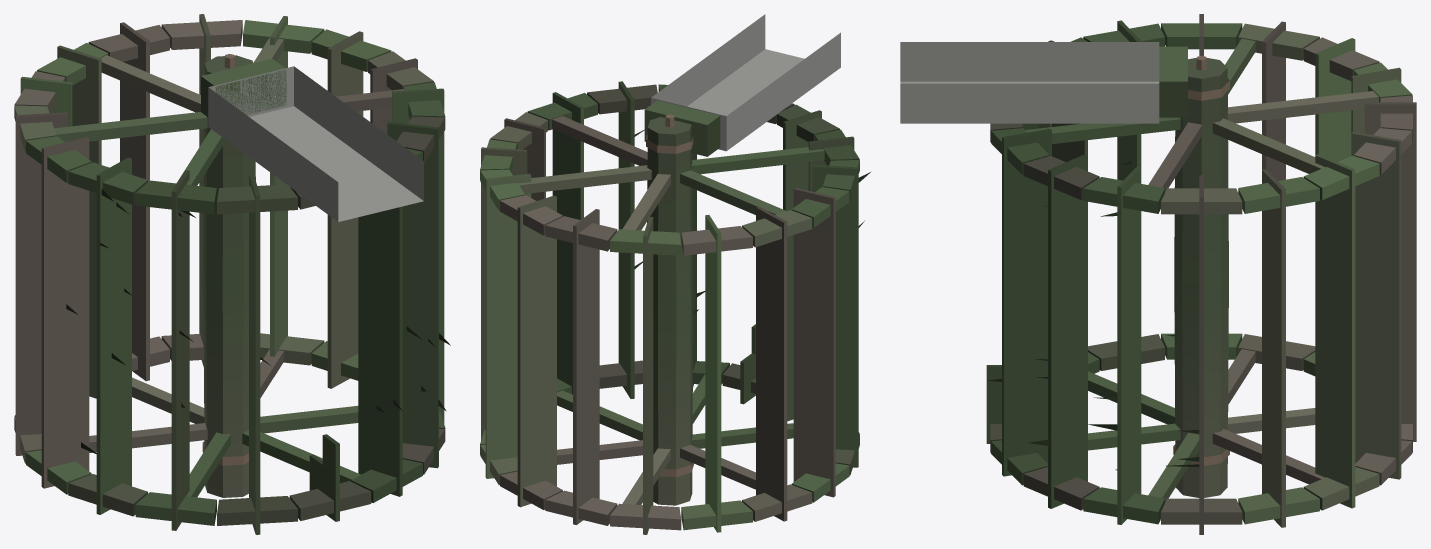
File: prop_mill_wheel.glb
3 views of the same model, side by side, from view 1: azimuth 30°, elevation 25°; view 2: azimuth 150°, elevation 25°; view 3: azimuth 270°, elevation 25° (orthographic). The views are drawn at different scales.
Visible parts, largest first — view 1: MillWheel; view 2: MillWheel; view 3: MillWheel.
Part boxes in pixels (x1=…): MillWheel: x1=14, y1=14, x2=450, y2=534; MillWheel: x1=480, y1=14, x2=871, y2=534; MillWheel: x1=900, y1=14, x2=1416, y2=534.
Size of the model in its own units: 3.14 by 3.46 by 3.77.
